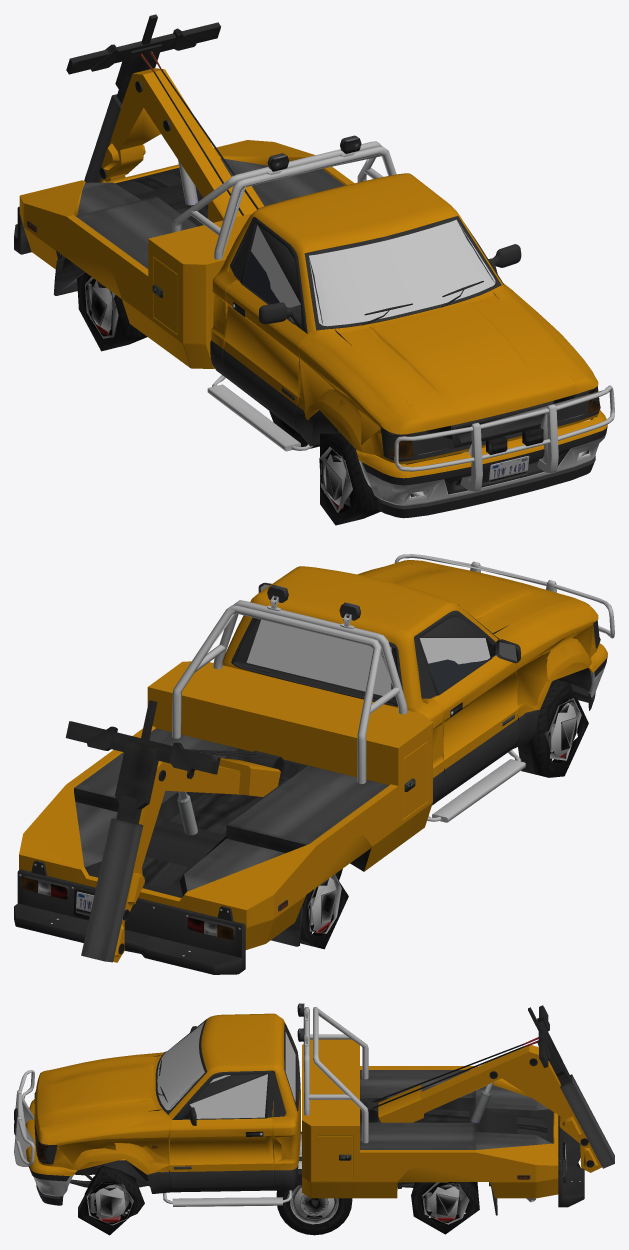
The model's file is tow.glb.
The picture shows the model from 3 angles, top to bottom: view 1: azimuth 30°, elevation 25°; view 2: azimuth 150°, elevation 25°; view 3: azimuth 270°, elevation 25°; orthographic projection. The views are drawn at different scales.
Parts seen in each view (by area): view 1: kit0, kit1, far, glass1, glass0; view 2: kit0, kit1, far, glass1, glass0; view 3: kit0, kit1, far, glass1, glass0, wheel0, wheel1.
Boxes of the visible parts, x1,y1,x2,y2 form: kit0: (14, 28, 614, 518); kit1: (14, 25, 613, 513); far: (30, 14, 600, 525); glass1: (251, 225, 493, 325); glass0: (264, 219, 495, 326); kit0: (14, 554, 614, 974); kit1: (14, 555, 612, 974); far: (15, 556, 599, 961); glass1: (246, 619, 490, 695); glass0: (280, 625, 489, 664); kit0: (14, 1003, 614, 1215); kit1: (14, 1006, 604, 1215); far: (20, 1005, 614, 1235); glass1: (157, 1026, 295, 1117); glass0: (157, 1021, 290, 1118); wheel0: (276, 1185, 352, 1235); wheel1: (283, 1185, 344, 1234).
Bounding box in the file's own units: 2 × 2.33 × 5.66.
Materials: 1 (1 with a texture image).
